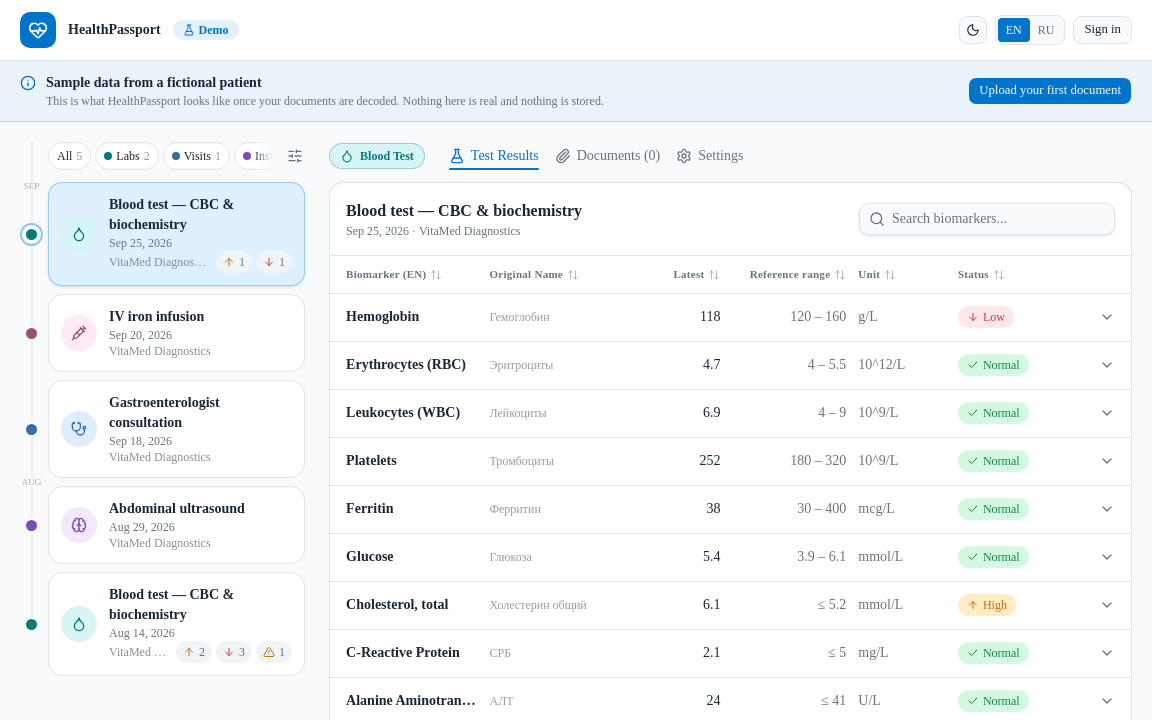
Test: DemoTimelineView › selecting the procedure shows a summary card instead of a dead end
Click the button "IV iron infusion Sep 20, 2026 VitaMed Diagnostics".
click(177, 333)  # box top-left (48, 294), bottom-right (305, 372)
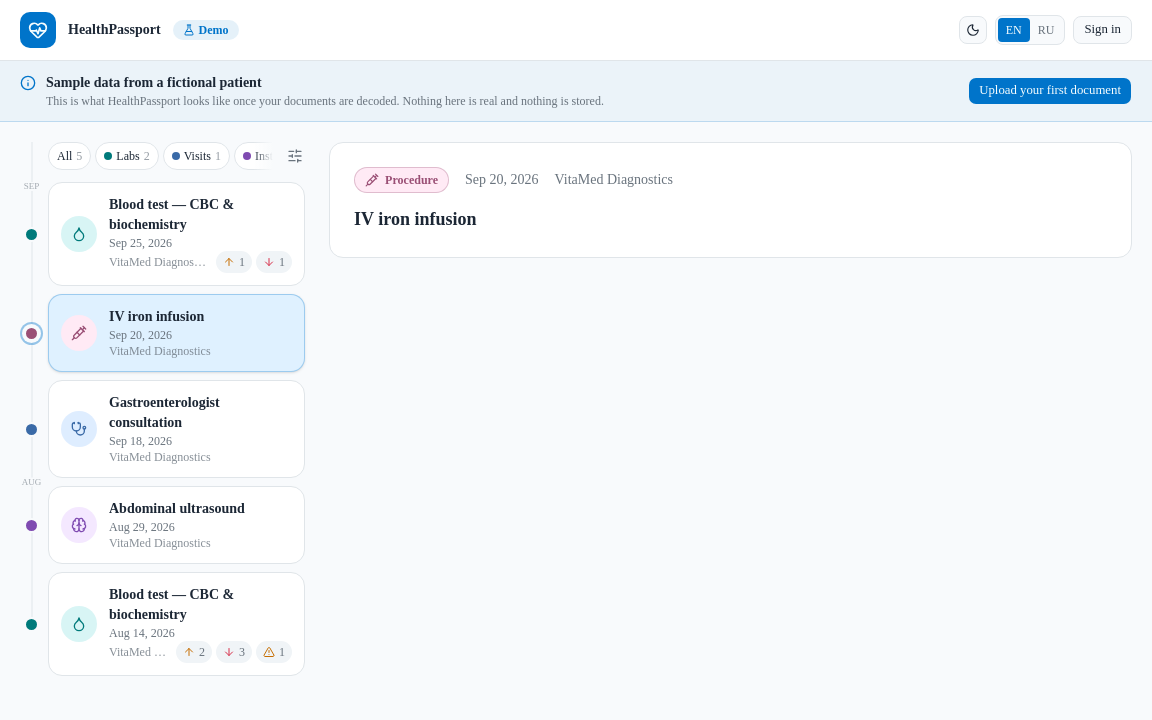
Now the text "Procedure" is shown, box top-left (354, 167), bottom-right (449, 193)
